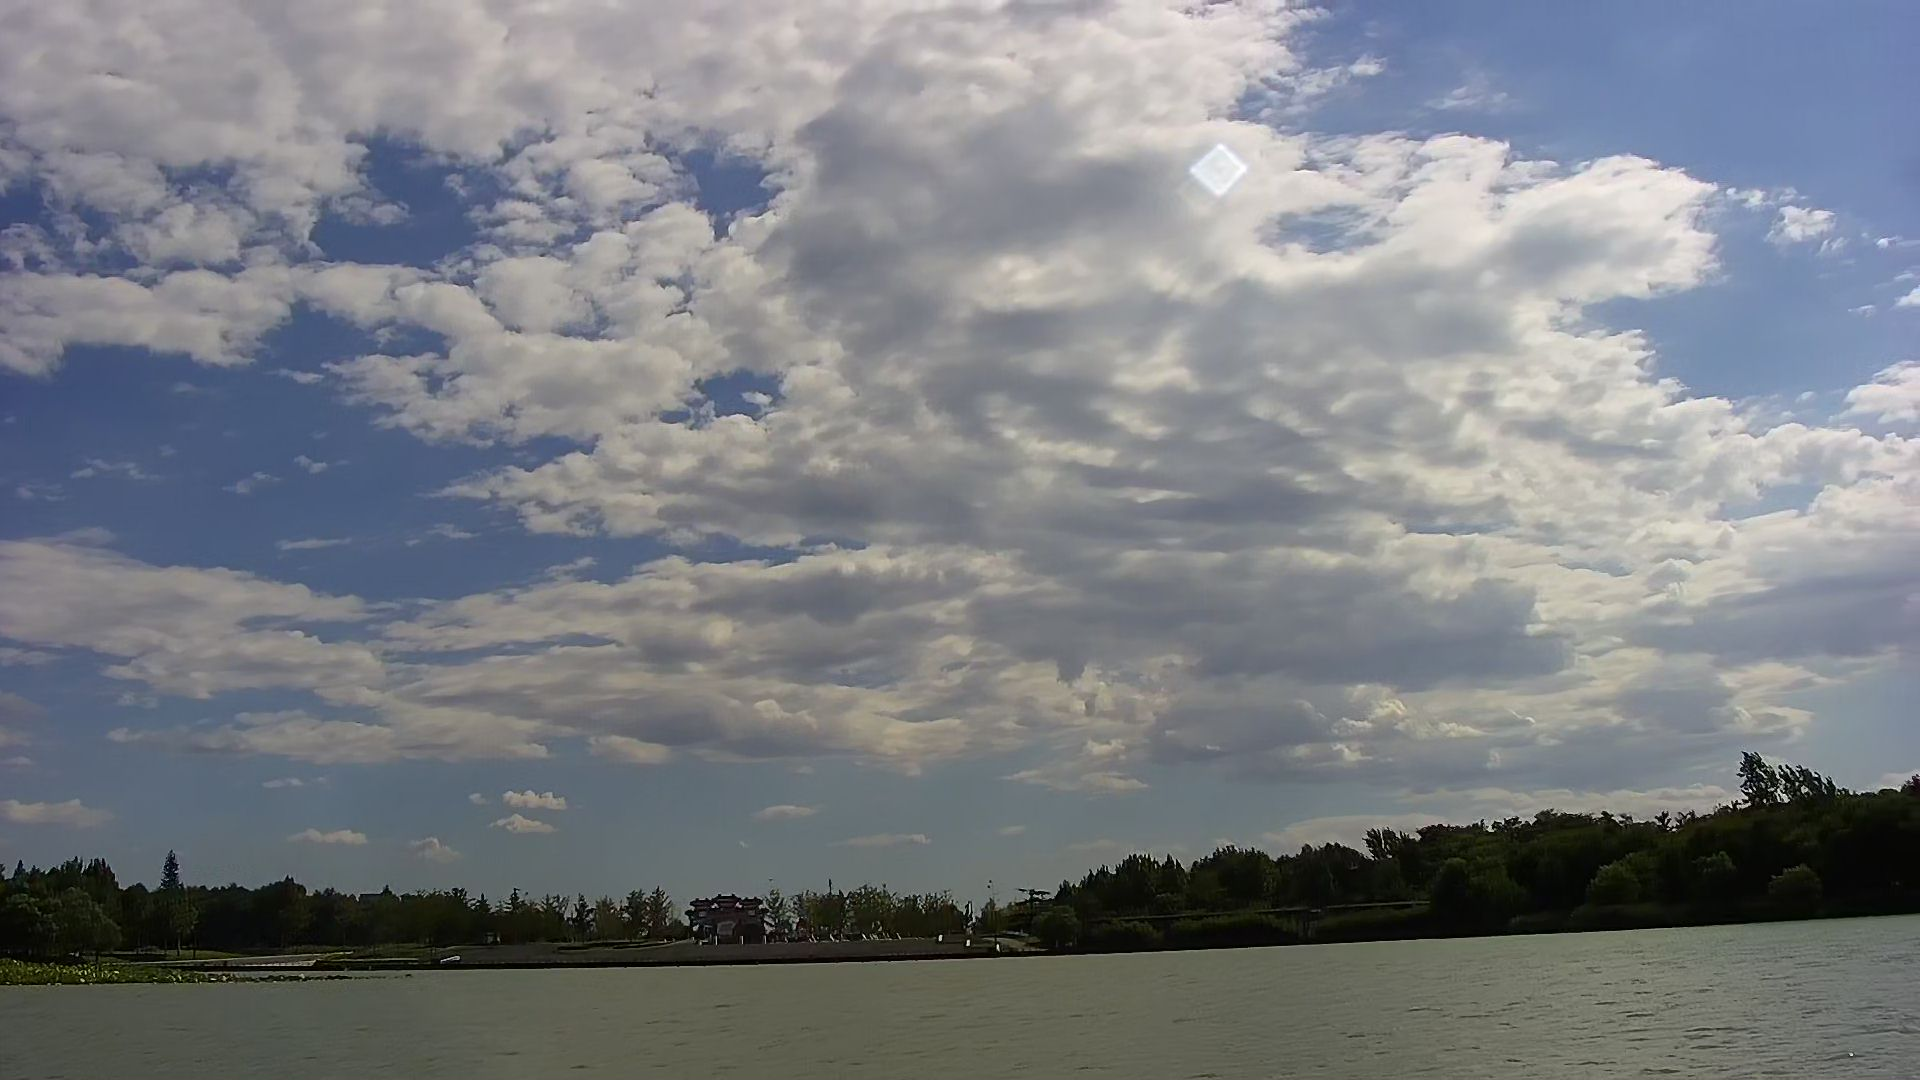harbor: (506, 935, 1087, 972)
